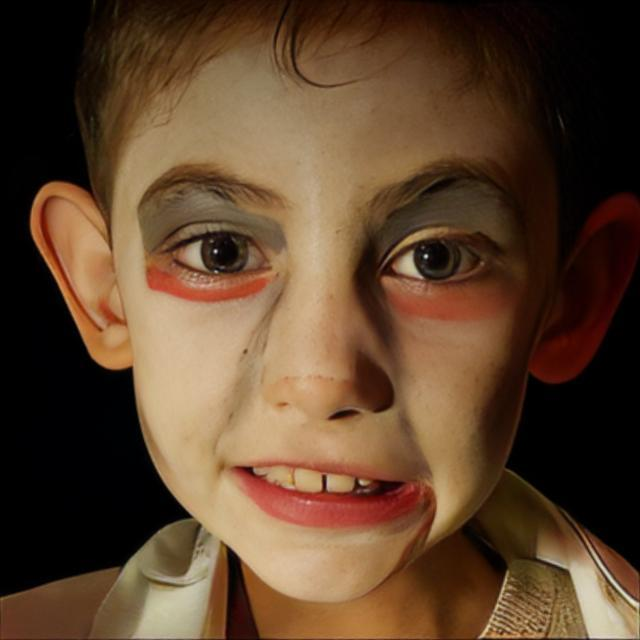disgust: (113, 0, 559, 604)
